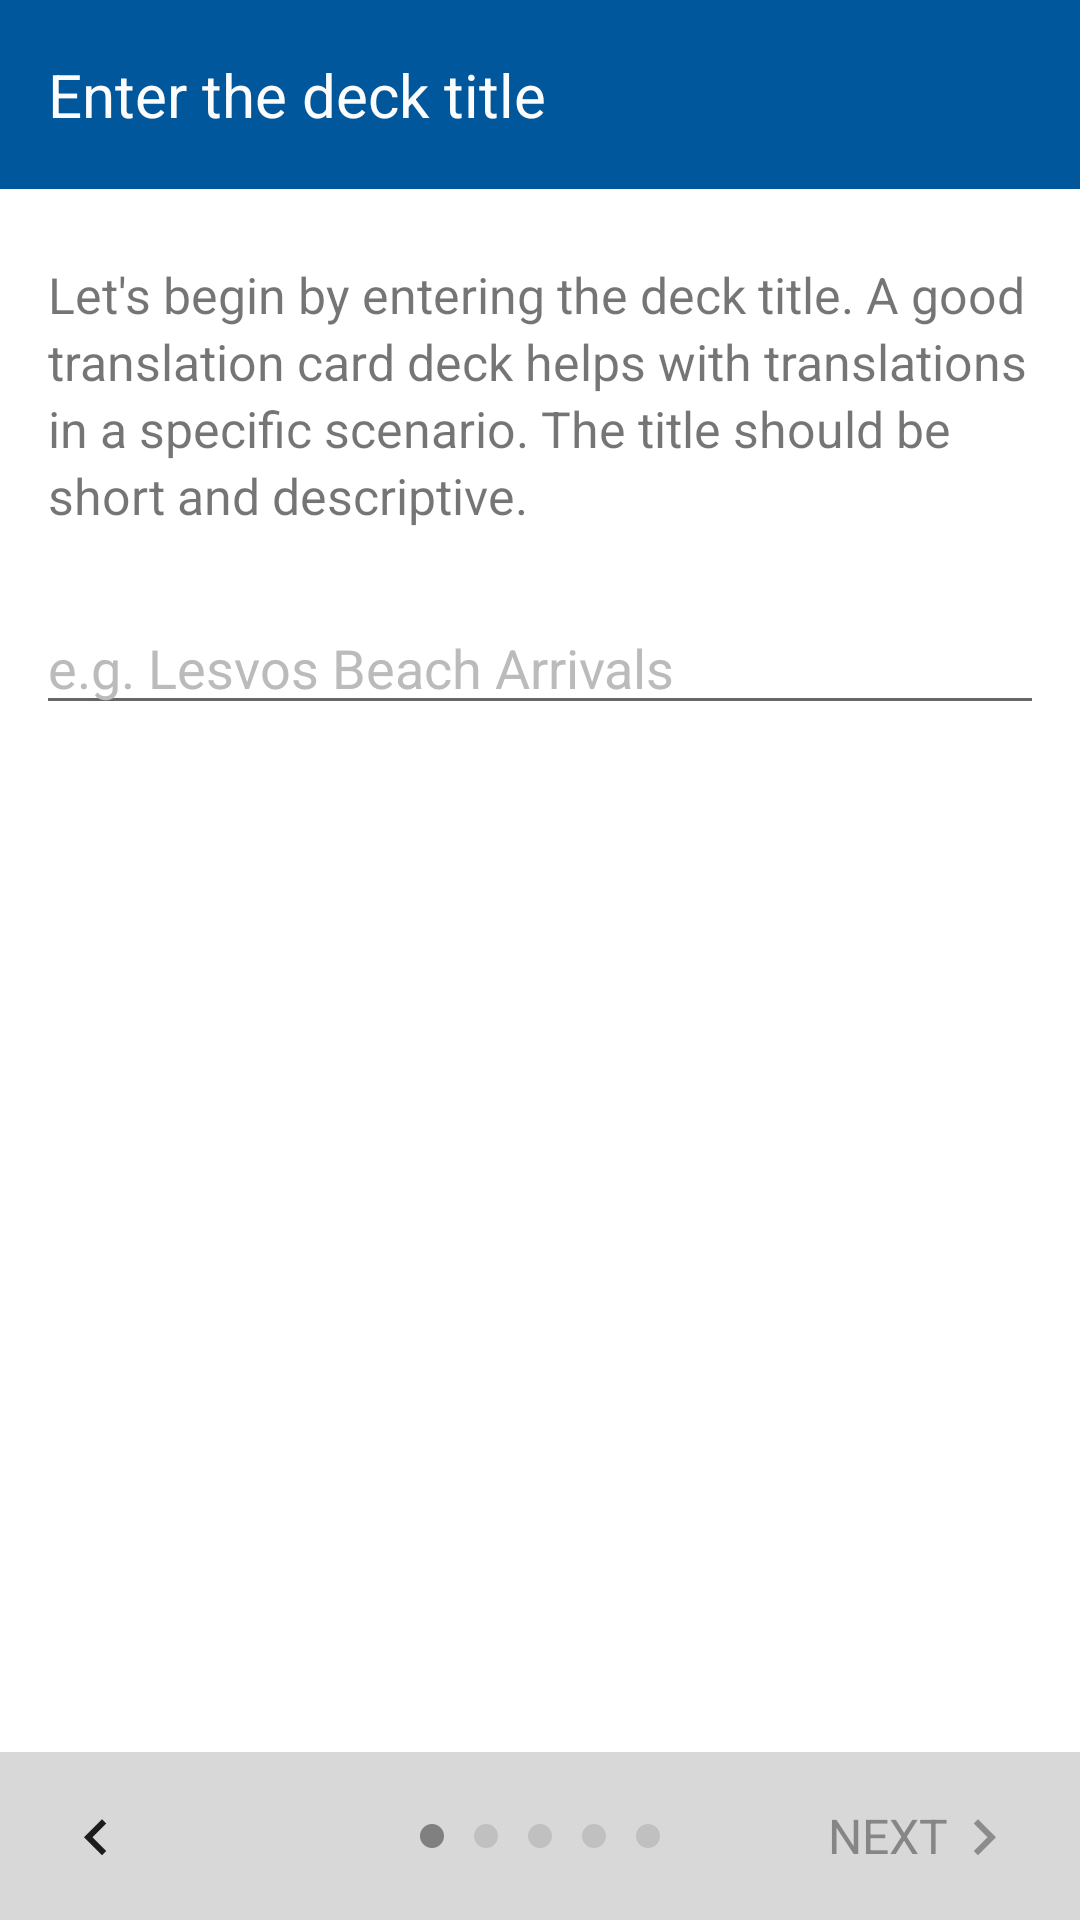

Named icons in this screenshot (1080px×1920px) and their centers, (x=x, y=y):
back arrow: (x=95, y=1837)
forward arrow: (x=985, y=1837)
